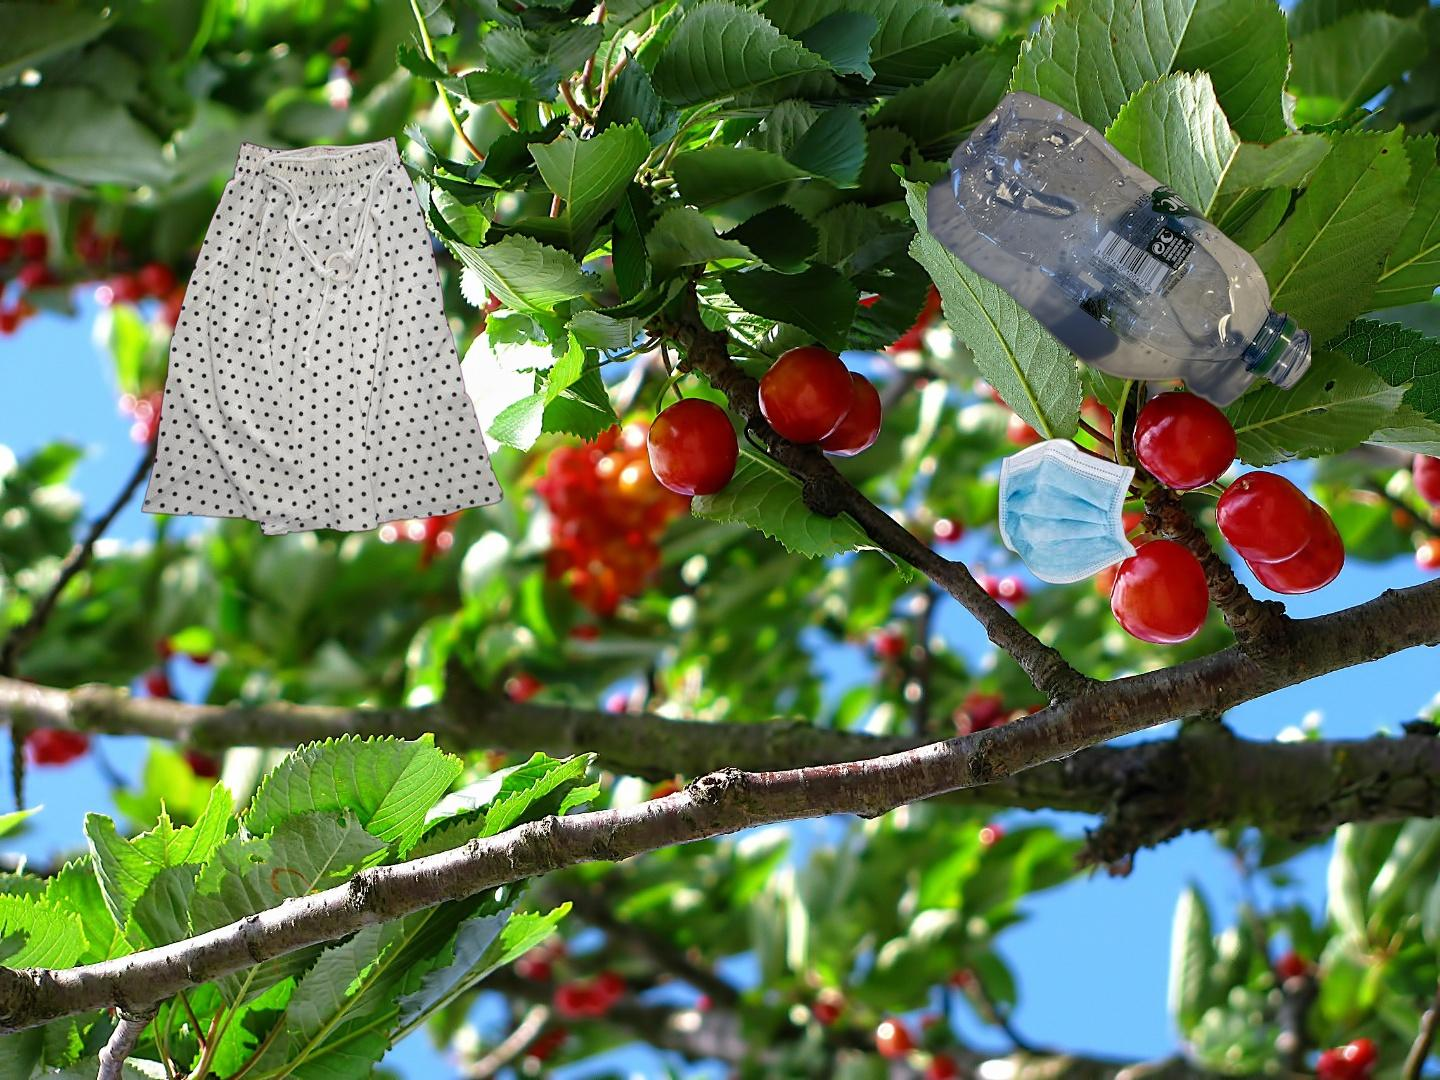biological: (1327, 1078, 1440, 1080)
clothes: (139, 132, 507, 541)
plastic-bottles: (927, 86, 1311, 413)
trash: (996, 436, 1198, 587)
